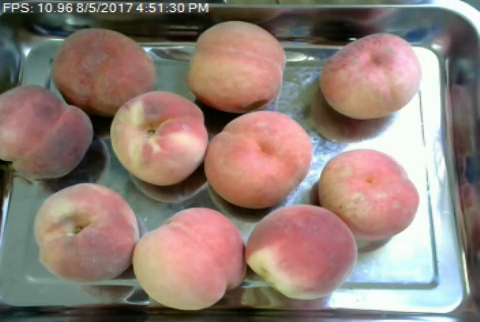Peach: (135, 207, 245, 309), (245, 204, 357, 301), (206, 109, 313, 209), (34, 182, 138, 284), (315, 148, 421, 241), (314, 32, 422, 123), (107, 89, 208, 186), (186, 19, 286, 112), (51, 27, 157, 114)
